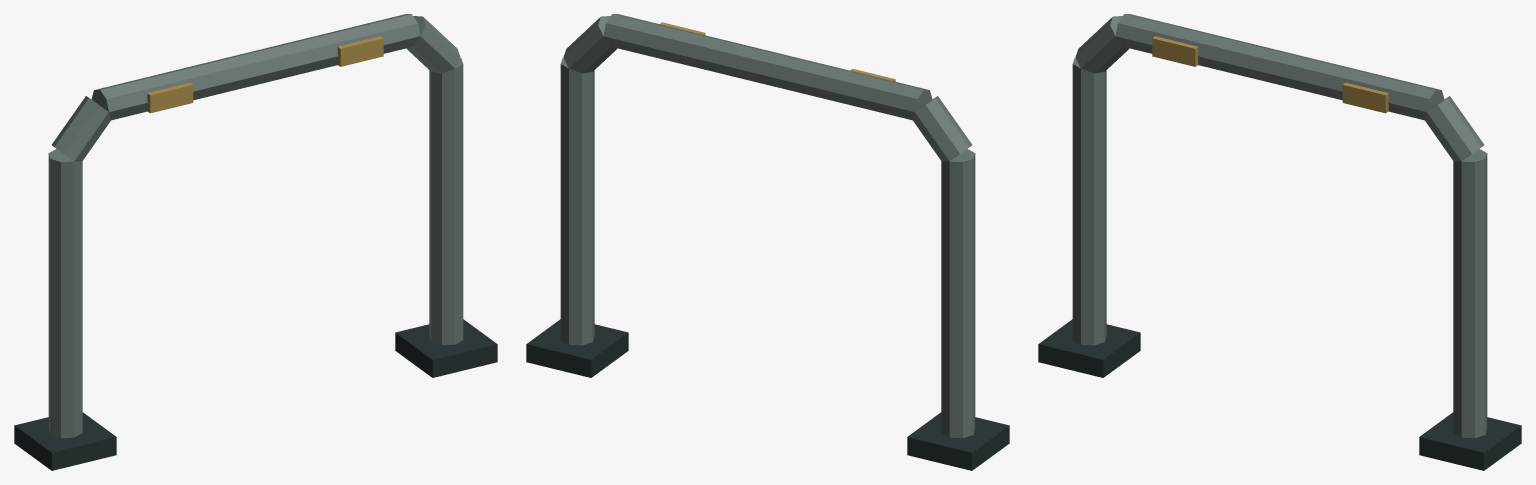
The picture shows the model from 3 angles, left to right: view 1: azimuth 30°, elevation 25°; view 2: azimuth 150°, elevation 25°; view 3: azimuth 330°, elevation 25°; orthographic projection.
Parts seen in each view (by area): view 1: a70; view 2: a70; view 3: a70.
Part boxes in pixels (x1,y1,x2,y2): a70: (14,14,497,470); a70: (526,14,1009,470); a70: (1038,14,1521,470).
Bounding box in the file's own units: 1.03 × 0.775 × 0.15.
